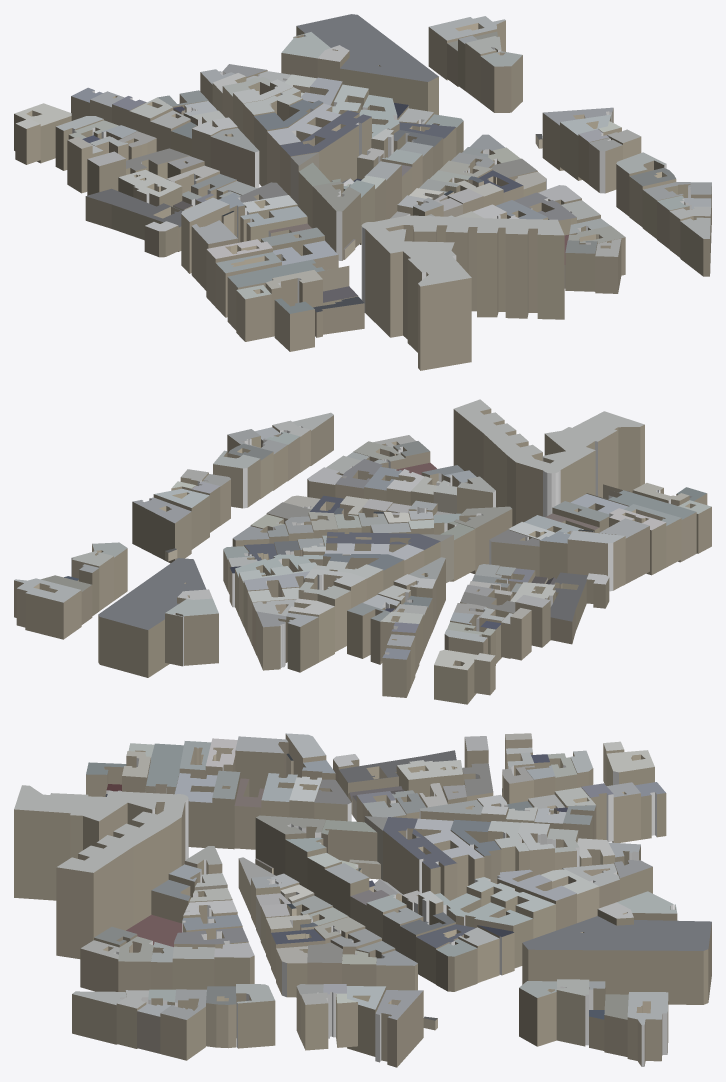
3 views of the same model, one above another, from view 1: azimuth 30°, elevation 25°; view 2: azimuth 150°, elevation 25°; view 3: azimuth 270°, elevation 25° (orthographic). The views are drawn at different scales.
Parts seen in each view (by area): view 1: tuile; view 2: tuile; view 3: tuile.
Boxes of the visible parts, <box> form: tuile: <box>14,14,711,370</box>; tuile: <box>14,399,711,704</box>; tuile: <box>14,733,711,1067</box>.
Size of the model in its own units: 278 by 45.84 by 314.
